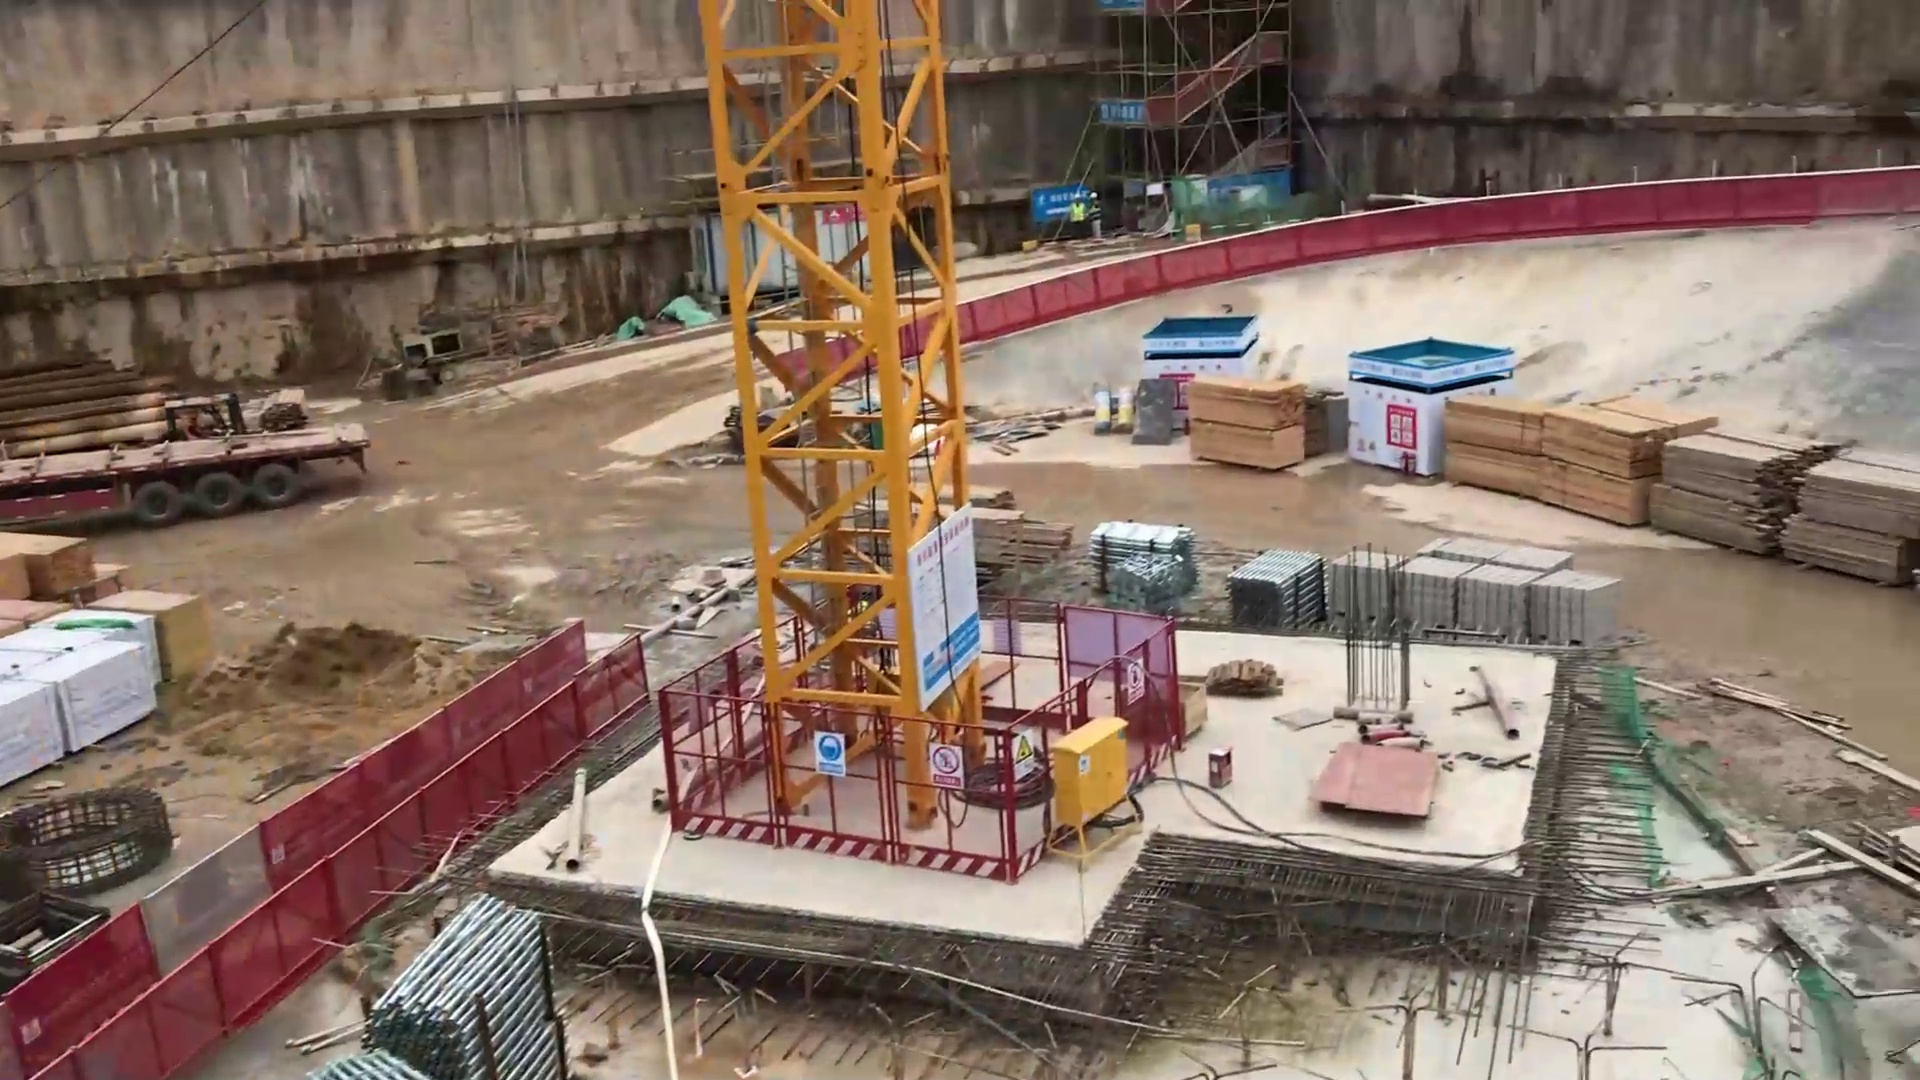board: (1300, 739, 1449, 829)
brick: (1528, 560, 1625, 657), (1456, 556, 1548, 652), (1421, 529, 1585, 579), (1327, 541, 1412, 636), (1394, 549, 1480, 640)
ebox: (1040, 712, 1140, 875)
fence: (217, 641, 649, 874), (669, 668, 1010, 876), (1451, 170, 1814, 255)
person: (1085, 190, 1105, 242), (1067, 193, 1087, 240)
scaffold: (381, 892, 573, 1080), (1084, 518, 1195, 611), (1229, 541, 1326, 641)
slogan: (913, 505, 975, 715), (1383, 401, 1419, 452), (1094, 98, 1150, 130), (812, 730, 847, 782), (933, 740, 965, 792), (1122, 657, 1151, 705), (1012, 732, 1038, 782)
wood: (1656, 421, 1908, 590), (1447, 393, 1653, 531), (1182, 367, 1311, 485), (971, 483, 1068, 587)
